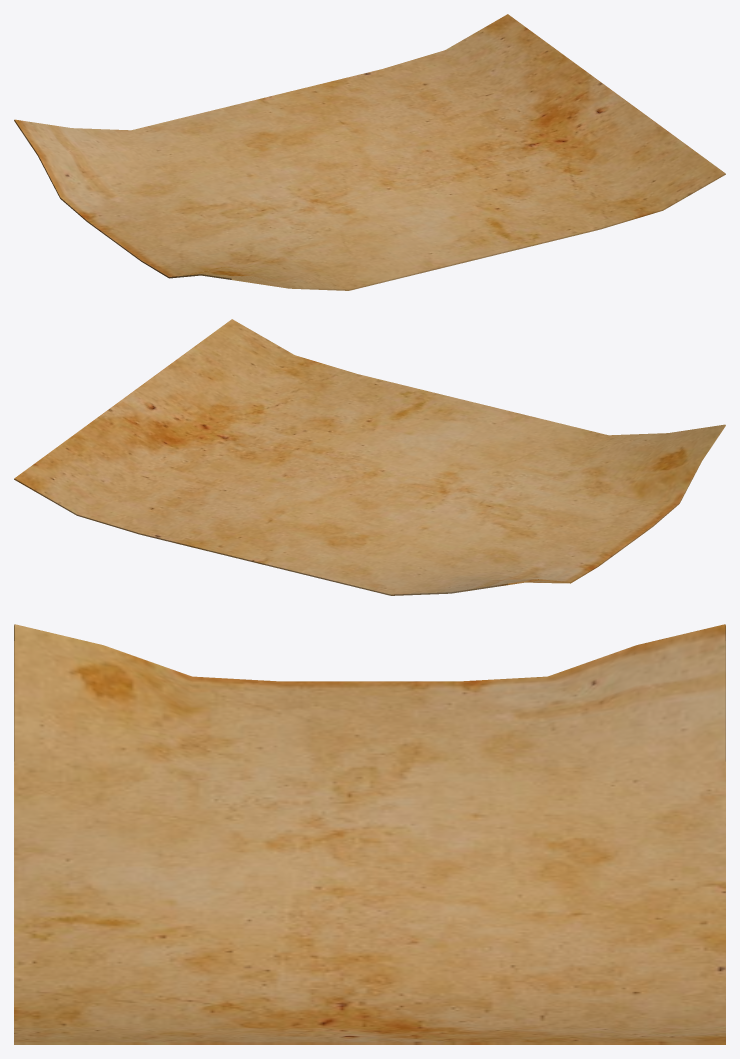
File: OldPaper.fbx
3 views of the same model, one above another, from view 1: azimuth 30°, elevation 25°; view 2: azimuth 150°, elevation 25°; view 3: azimuth 270°, elevation 25° (orthographic). The views are drawn at different scales.
Parts seen in each view (by area): view 1: Plane; view 2: Plane; view 3: Plane.
Boxes of the visible parts, <box> form: Plane: <box>14,14,725,290</box>; Plane: <box>14,319,725,595</box>; Plane: <box>14,624,725,1044</box>.
Bounding box in the file's own units: 60 × 4.64 × 45.
